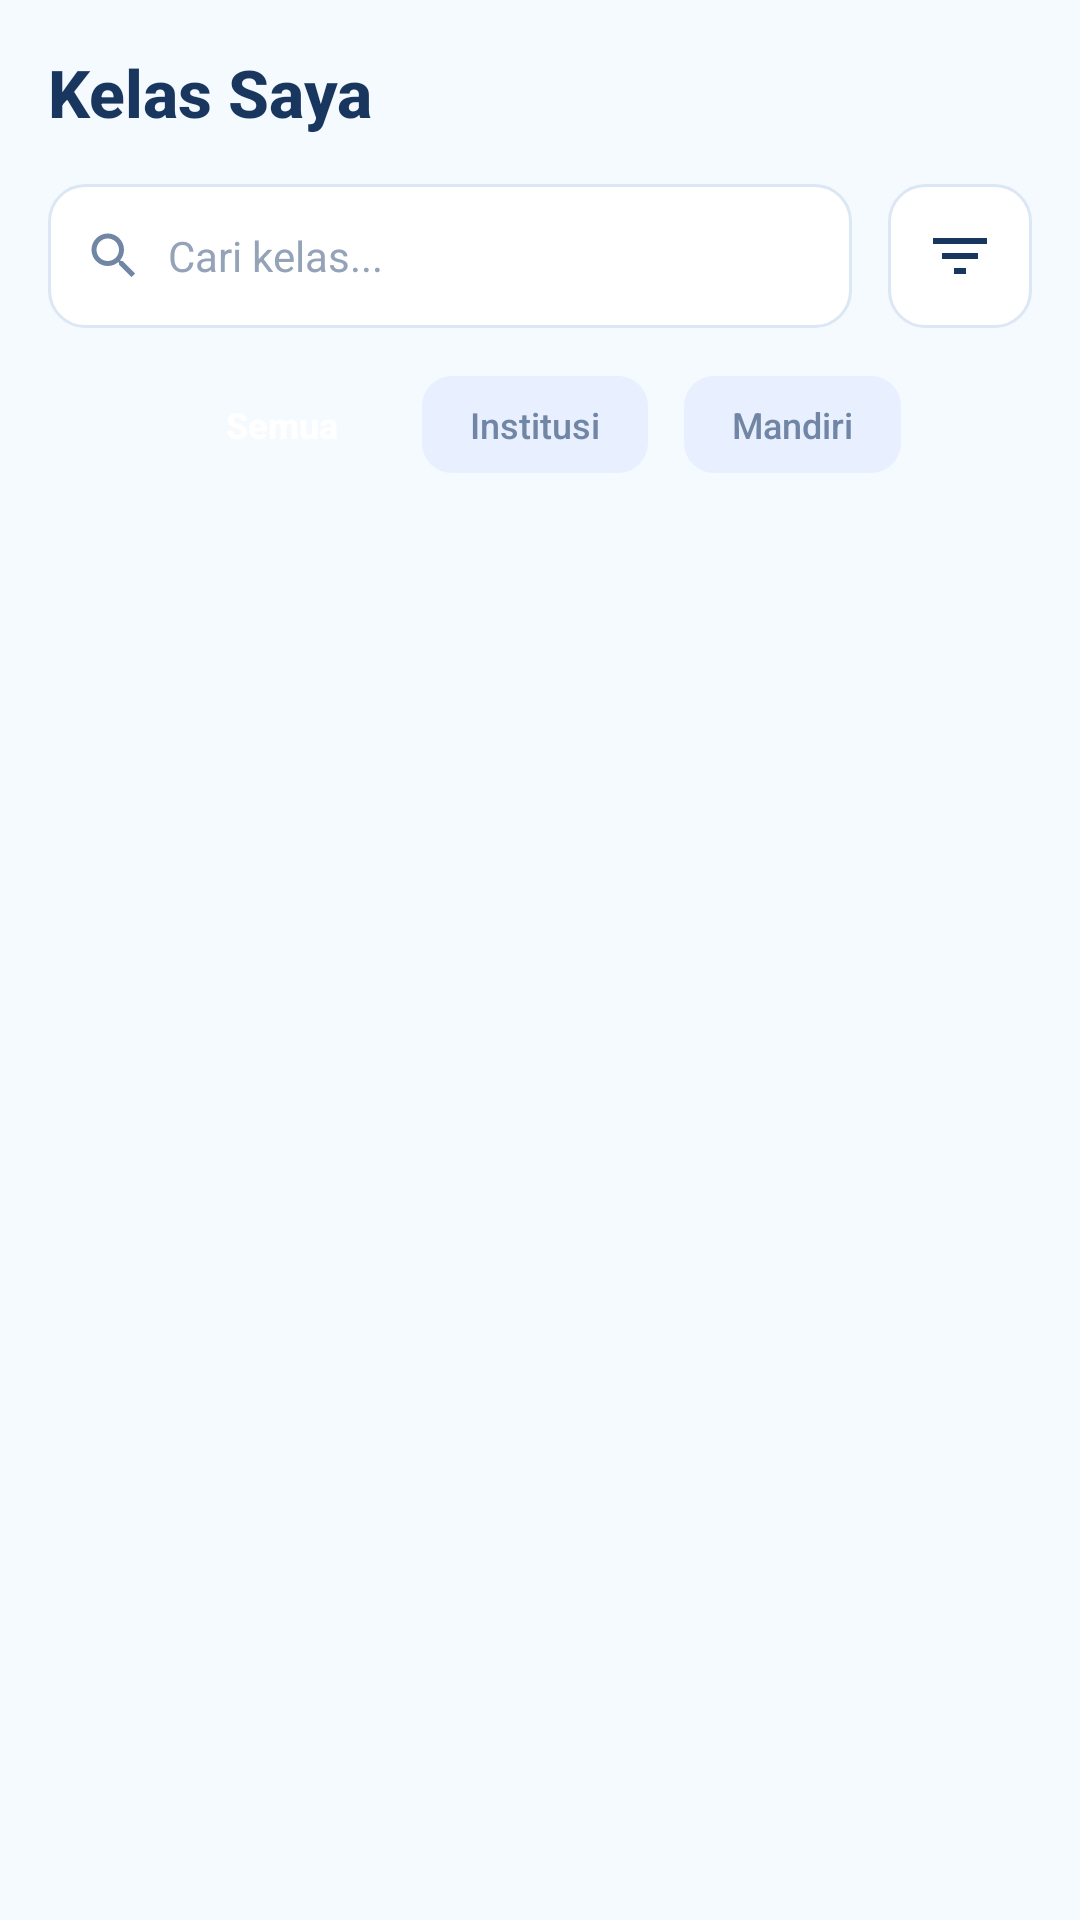

Locate icon controls on the screen. Image size 1080px x 1920px, boxes as (x1, y1, x2, y2).
filter: (888, 184, 1032, 328)
search: (91, 233, 135, 277)
